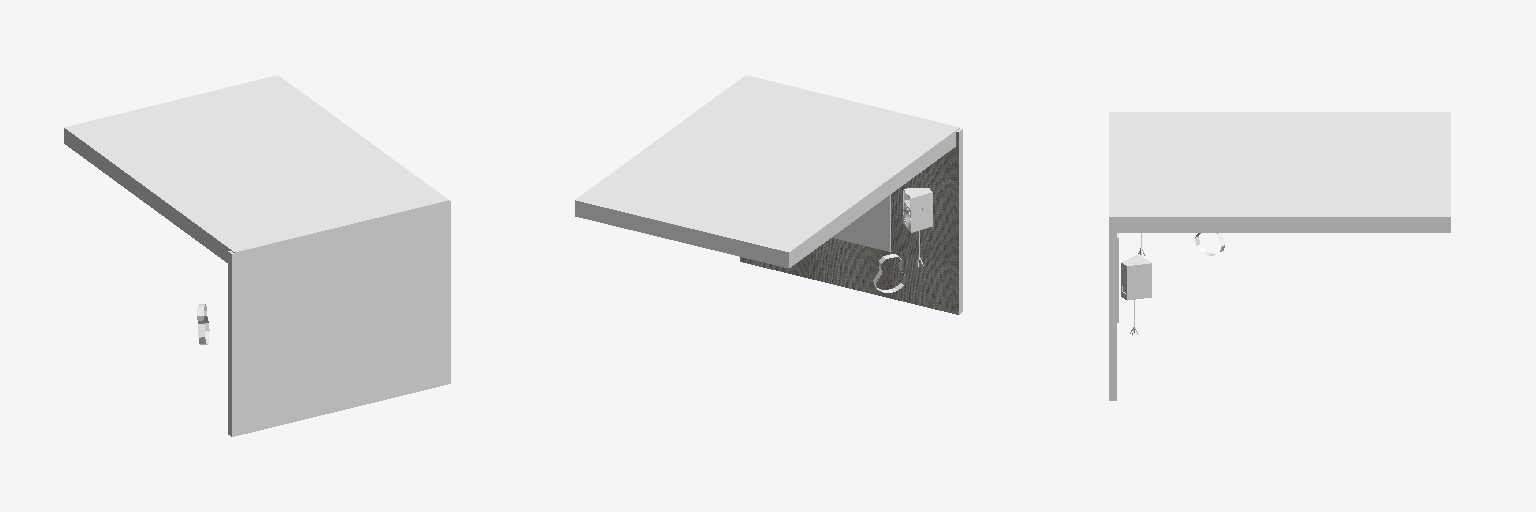
The picture shows the model from 3 angles: view 1: azimuth 30°, elevation 25°; view 2: azimuth 150°, elevation 25°; view 3: azimuth 270°, elevation 25°; orthographic projection.
Parts seen in each view (by area): view 1: pCube1, pCube2; view 2: pCube1, pCube2, pCube3, p:polySurface1439 polySurface1444; view 3: pCube1, pCube2, p:polySurface9 polySurface1442.
Part boxes in pixels (x1,y1,x2,y2): pCube1: (64, 75, 448, 268); pCube2: (228, 199, 450, 436); pCube1: (575, 75, 959, 268); pCube2: (740, 76, 962, 314); pCube3: (832, 194, 890, 251); p:polySurface1439 polySurface1444: (903, 188, 932, 232); pCube1: (1109, 112, 1450, 232); pCube2: (1109, 218, 1116, 400); p:polySurface9 polySurface1442: (1121, 254, 1151, 300).
Bounding box in the file's own units: 26.23 × 21.1 × 35.53.
Materials: 6 (1 with a texture image).